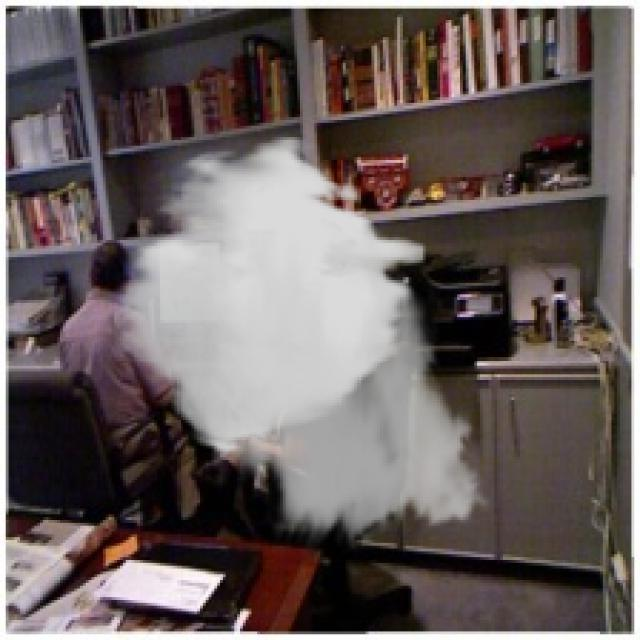smoke: (114, 134, 497, 552)
